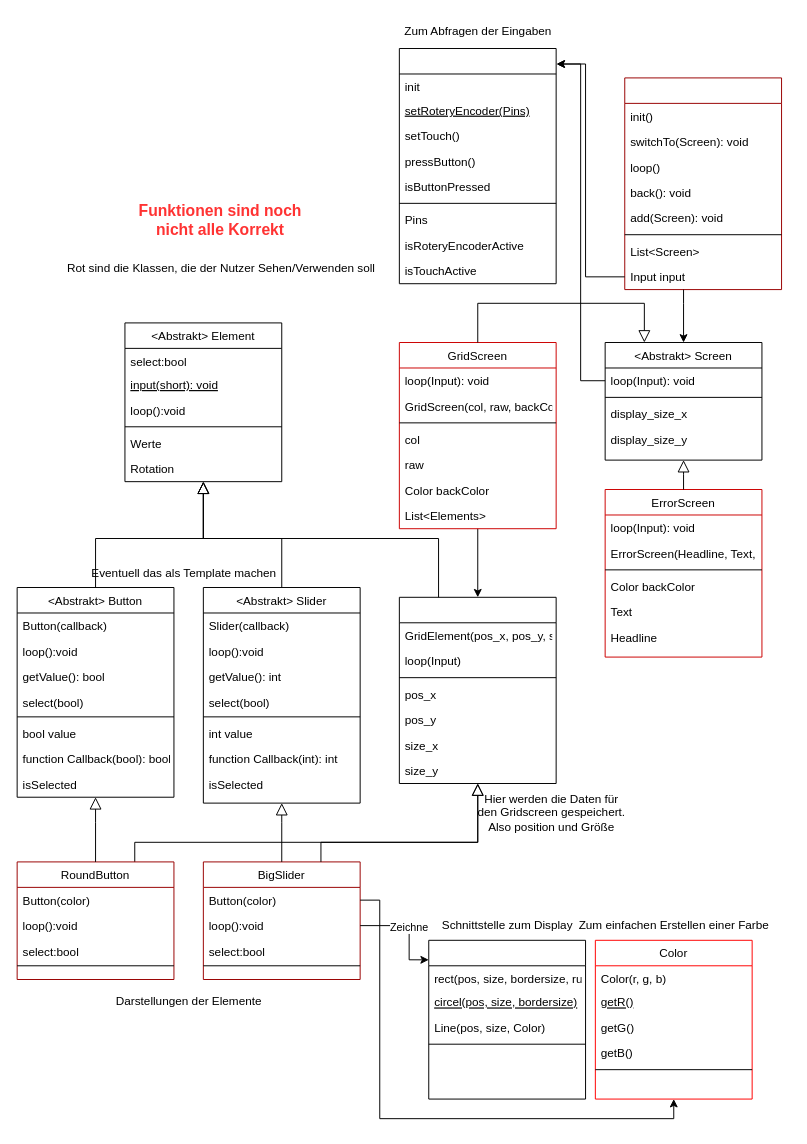
Some shapes in this 807 by 1144 pixel diagram are drawn without their labels. Each missing label, with the box of its shape:
Draw: (428, 939, 586, 1099)
GridElements: (398, 596, 556, 784)
Input: (398, 48, 556, 284)
TouchMenuLib: (624, 77, 782, 290)
